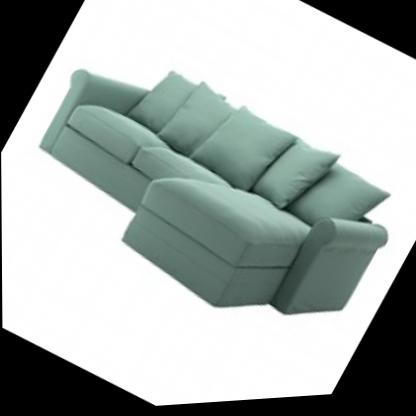Sofa: (0, 0, 416, 384)
